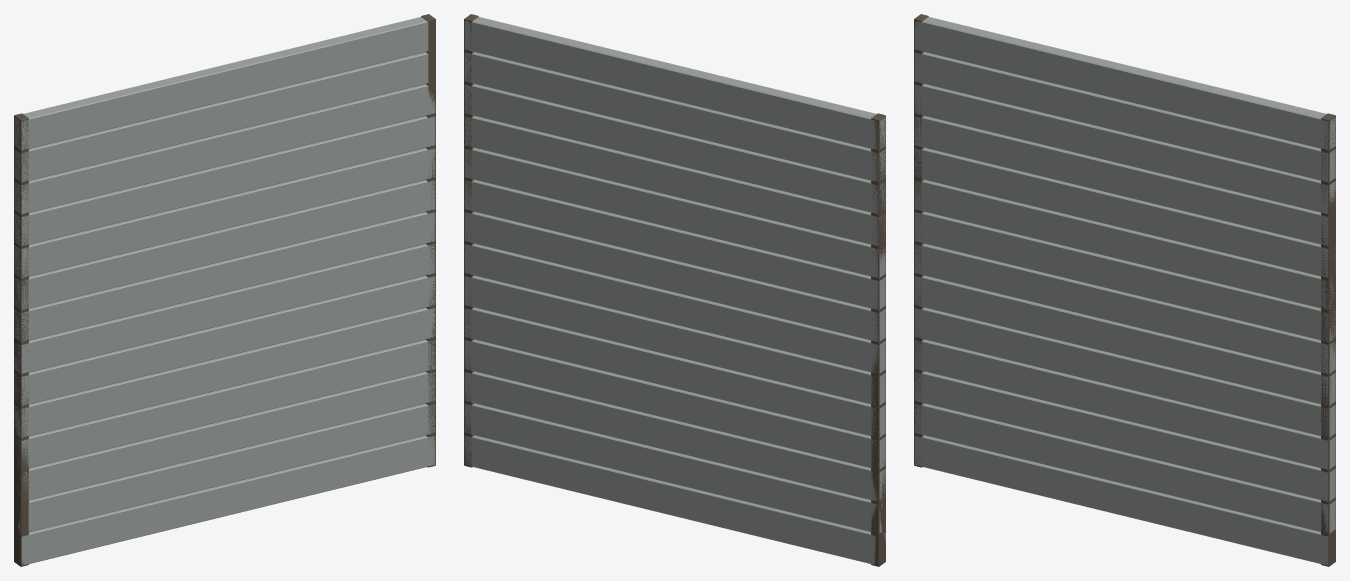
File: MW_ROLLUP_LODs.fbx
3 views of the same model, side by side, from view 1: azimuth 30°, elevation 25°; view 2: azimuth 150°, elevation 25°; view 3: azimuth 330°, elevation 25° (orthographic).
Parts seen in each view (by area): view 1: MW_ROLLUP_LOD0; view 2: MW_ROLLUP_LOD0; view 3: MW_ROLLUP_LOD0.
Boxes of the visible parts, bbox=[...] form: MW_ROLLUP_LOD0: bbox=[14, 14, 435, 566]; MW_ROLLUP_LOD0: bbox=[464, 14, 885, 566]; MW_ROLLUP_LOD0: bbox=[914, 14, 1335, 566].
Size of what is drawn, in the model's own units: 3.46 by 3.56 by 0.1.
